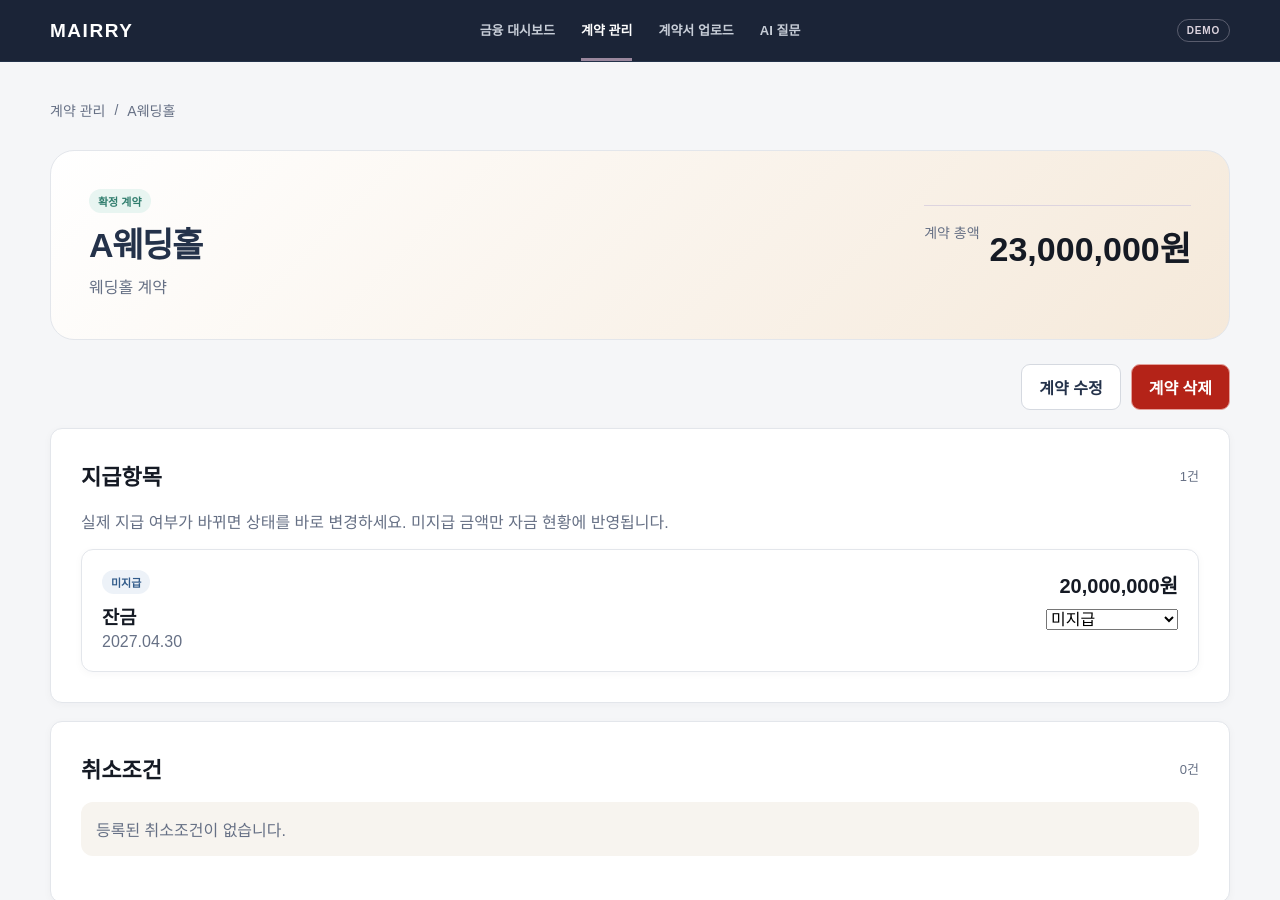
Test: contract pages › updates a payment status directly from contract detail
Select "지급 완료" in the dropdown named "잔금 지급상태" at (1112, 620), box [1046, 609, 1178, 630]
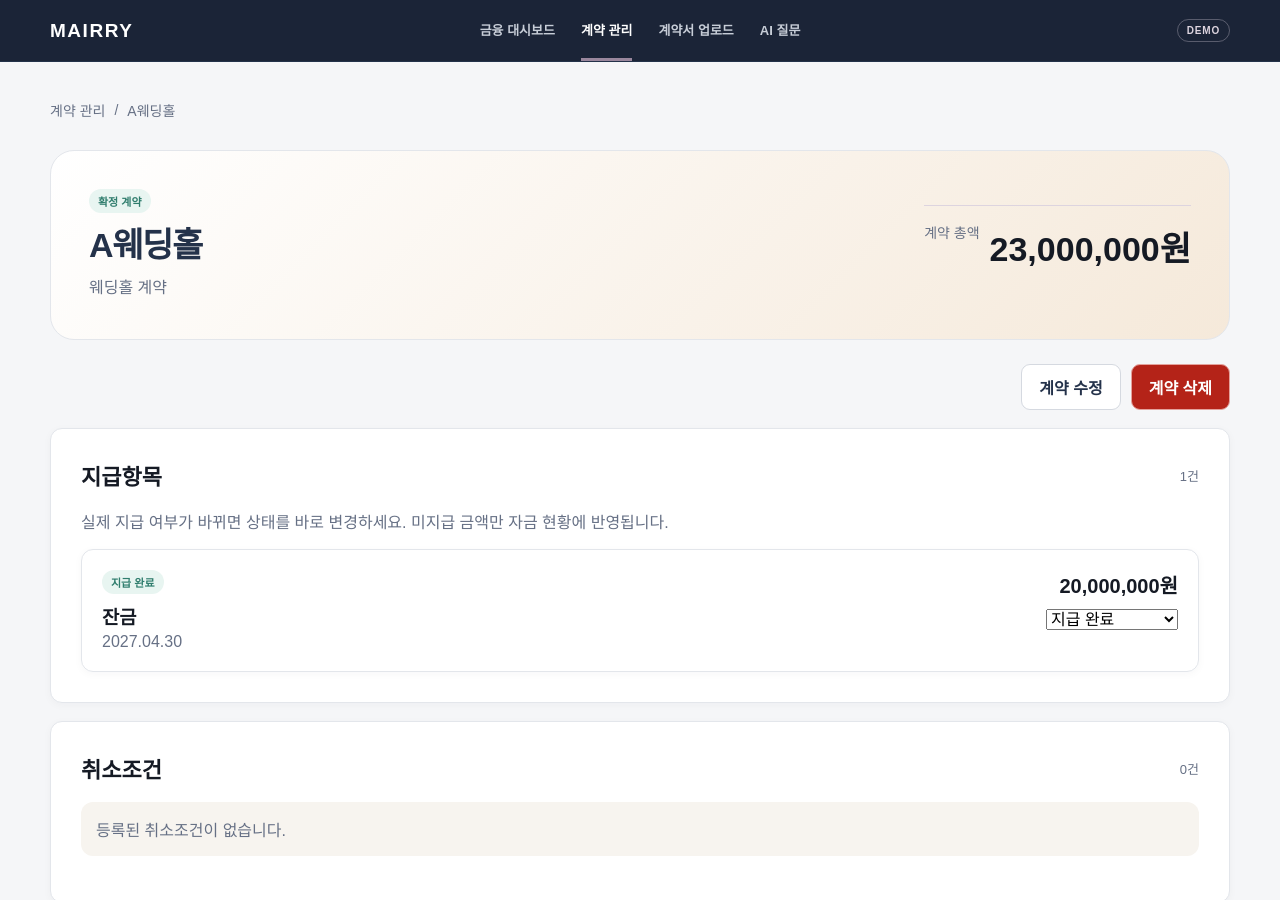
Check: the text "지급 완료" is shown, box [102, 570, 164, 594]
